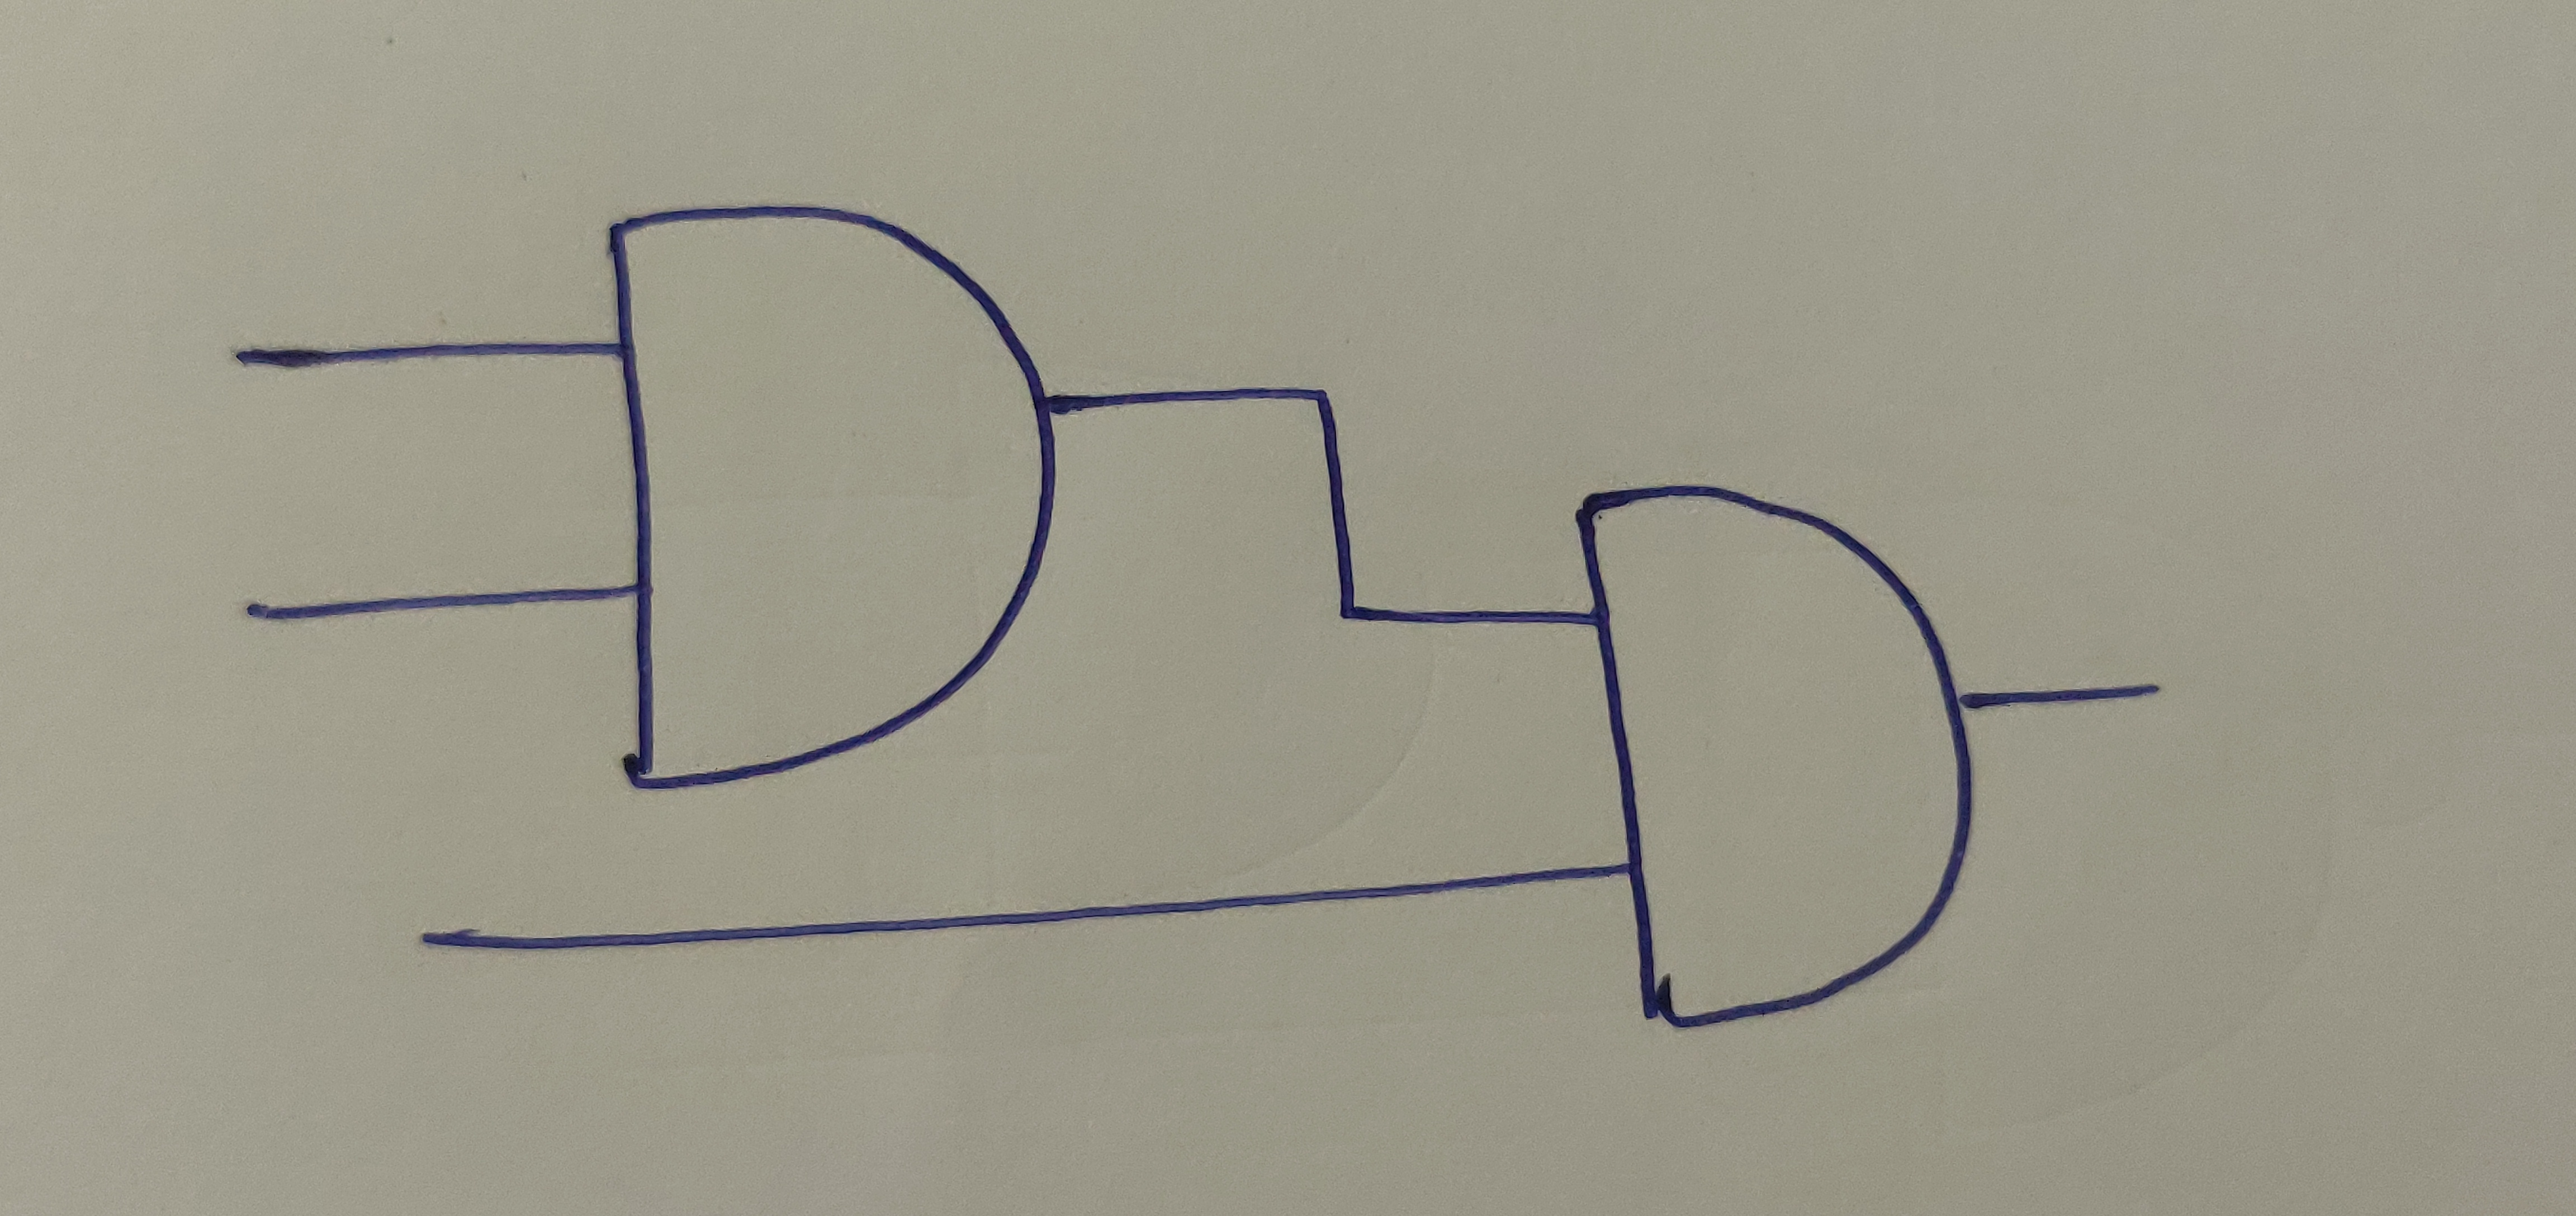and: (603, 205, 1060, 790), (1566, 481, 1980, 1025)
